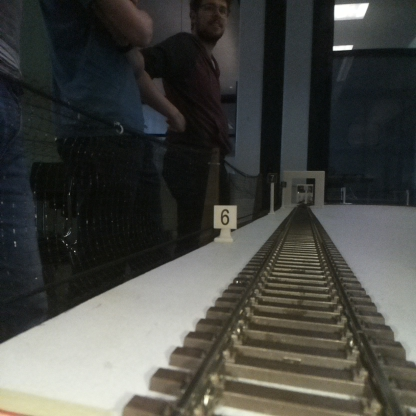white-stop-6: (213, 205, 237, 243)
